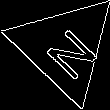N_NW: (32, 15, 96, 79)
